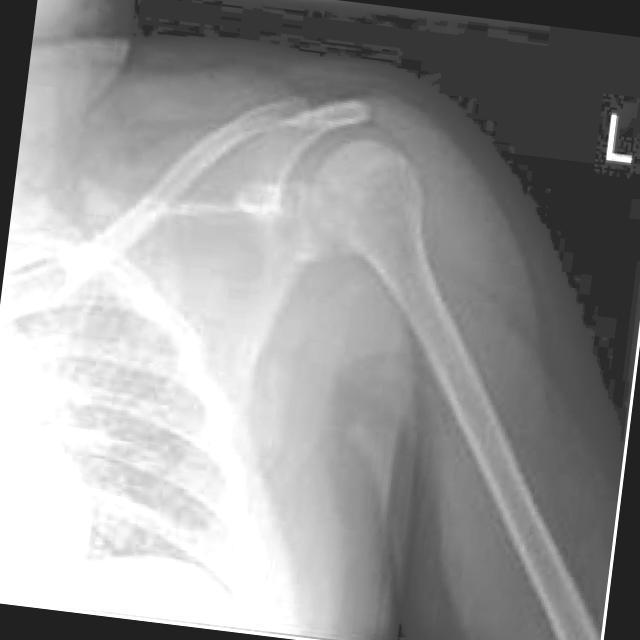Avlusion Fracture: (299, 84, 392, 141)
